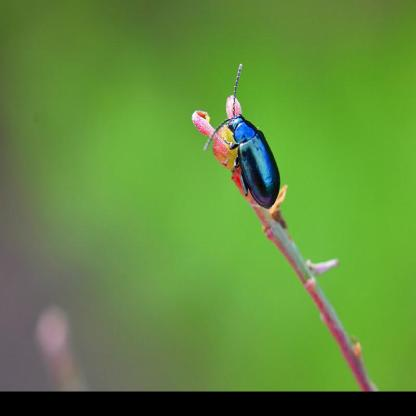beetle: (217, 105, 290, 214)
